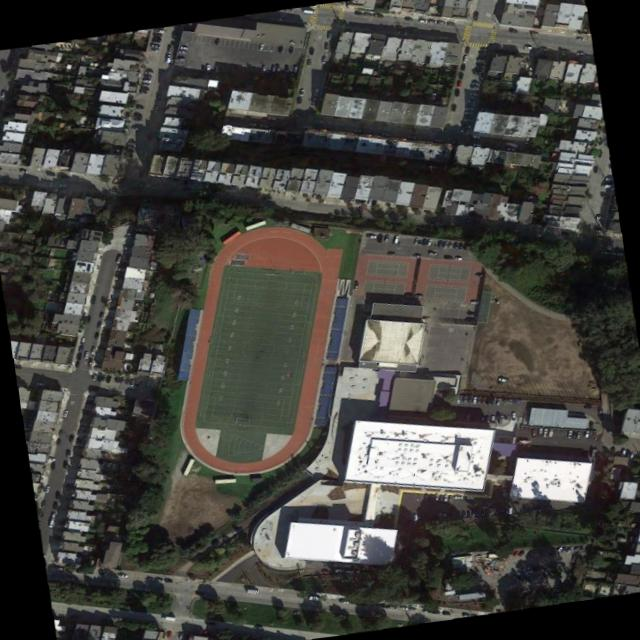large-vehicle: (160, 614, 175, 620), (244, 588, 256, 593)
small-vehicle: (497, 376, 508, 382), (301, 9, 313, 14), (541, 427, 547, 437), (391, 235, 399, 242), (448, 103, 455, 111), (554, 545, 561, 553), (564, 545, 571, 553), (139, 81, 150, 86), (307, 595, 318, 600), (132, 116, 141, 122), (582, 429, 588, 438), (154, 28, 164, 33), (134, 104, 144, 109), (373, 12, 383, 17), (511, 550, 518, 557), (382, 233, 388, 241), (505, 142, 517, 146), (459, 61, 465, 69), (305, 58, 311, 66), (565, 429, 571, 437), (48, 518, 53, 527), (139, 85, 148, 90), (522, 44, 531, 49), (338, 598, 347, 603), (466, 311, 475, 316), (594, 215, 605, 219), (131, 125, 142, 129), (198, 630, 209, 634), (257, 42, 263, 49), (462, 45, 468, 52), (297, 88, 304, 94), (517, 549, 524, 555), (560, 545, 566, 552), (115, 255, 121, 262), (148, 48, 158, 52), (375, 233, 380, 241), (365, 234, 375, 238), (601, 184, 611, 188), (592, 164, 597, 172), (133, 112, 141, 117), (539, 46, 547, 51), (436, 19, 444, 24), (471, 11, 476, 19), (573, 51, 583, 55), (528, 31, 538, 35), (458, 128, 468, 132), (505, 146, 515, 150), (379, 131, 387, 136), (457, 70, 462, 78), (453, 88, 458, 96), (313, 87, 318, 95), (308, 46, 313, 54), (424, 608, 432, 613), (61, 409, 66, 417), (67, 433, 72, 441), (45, 171, 53, 176), (18, 168, 26, 173), (0, 89, 5, 97), (254, 625, 262, 630), (468, 299, 478, 303), (453, 255, 461, 260), (510, 411, 515, 419), (464, 412, 469, 420), (153, 32, 162, 36), (468, 90, 477, 94), (427, 251, 436, 255), (385, 251, 394, 255), (600, 194, 609, 198), (467, 95, 476, 99), (362, 11, 371, 15), (469, 134, 478, 138), (472, 141, 481, 145), (479, 46, 488, 50), (573, 546, 579, 552), (163, 578, 172, 582), (117, 573, 126, 577), (452, 494, 461, 498), (213, 37, 218, 44), (277, 44, 282, 51), (437, 239, 442, 246), (426, 238, 431, 245), (326, 32, 331, 39), (323, 43, 328, 50), (164, 631, 169, 638), (54, 437, 59, 444), (89, 345, 94, 352), (95, 320, 100, 327), (97, 309, 102, 316), (76, 344, 81, 351), (627, 451, 632, 458), (619, 449, 624, 456), (478, 413, 483, 420), (471, 396, 476, 403), (150, 43, 158, 47), (176, 56, 184, 60), (247, 122, 255, 126), (260, 123, 268, 127), (141, 78, 149, 82), (467, 99, 475, 103), (404, 17, 412, 21), (417, 18, 425, 22), (445, 21, 453, 25), (462, 117, 470, 121), (386, 604, 394, 608), (398, 605, 406, 609), (408, 606, 416, 610), (65, 448, 69, 456), (474, 272, 482, 276), (547, 428, 551, 436), (508, 506, 512, 514), (461, 395, 465, 403), (489, 414, 493, 422), (484, 414, 488, 422), (410, 254, 420, 257), (463, 111, 473, 114), (51, 501, 56, 507), (43, 486, 48, 492), (104, 375, 109, 381), (100, 374, 105, 380), (489, 396, 494, 402), (151, 39, 158, 43), (292, 65, 296, 72), (179, 45, 186, 49), (287, 45, 291, 52), (470, 84, 477, 88), (443, 240, 447, 247), (420, 238, 424, 245), (417, 237, 421, 244), (412, 237, 416, 244), (138, 90, 145, 94), (462, 121, 469, 125), (321, 55, 325, 62), (311, 97, 315, 104), (462, 242, 466, 249), (50, 512, 54, 519), (442, 610, 449, 614), (155, 578, 162, 582), (321, 569, 328, 573), (423, 493, 427, 500), (177, 632, 181, 639), (63, 460, 67, 467), (50, 461, 54, 468), (129, 378, 133, 385), (83, 351, 87, 358), (80, 335, 84, 342), (575, 431, 579, 438), (570, 431, 574, 438), (537, 427, 541, 434), (494, 397, 498, 404), (497, 415, 501, 422), (301, 124, 310, 127), (142, 74, 151, 77), (333, 569, 342, 572), (353, 280, 356, 289), (57, 429, 62, 434), (153, 37, 161, 40), (165, 54, 168, 62), (261, 65, 265, 71), (205, 64, 209, 70), (177, 49, 185, 52), (471, 81, 479, 84), (143, 70, 151, 73), (353, 10, 361, 13), (510, 28, 516, 32), (407, 135, 415, 138), (456, 80, 460, 86), (296, 97, 300, 103), (442, 254, 450, 257), (46, 457, 54, 460), (113, 375, 117, 381), (74, 353, 78, 359), (531, 429, 535, 435), (167, 45, 170, 52), (270, 64, 273, 71), (428, 19, 435, 22), (353, 128, 360, 131), (463, 54, 466, 61), (147, 577, 154, 580), (41, 498, 44, 505), (92, 373, 95, 380), (74, 360, 77, 367), (86, 314, 89, 321), (91, 295, 94, 302), (454, 396, 457, 403), (467, 496, 474, 499), (413, 513, 416, 520), (465, 107, 475, 109), (124, 377, 128, 382), (95, 374, 99, 379), (93, 331, 97, 336), (452, 242, 455, 248), (447, 241, 450, 247), (434, 494, 437, 500), (55, 491, 58, 497), (438, 495, 441, 501), (443, 494, 446, 500), (466, 510, 469, 516), (461, 511, 464, 517), (575, 37, 583, 39), (118, 377, 122, 381), (447, 495, 450, 500), (345, 570, 352, 572), (284, 66, 286, 72)
